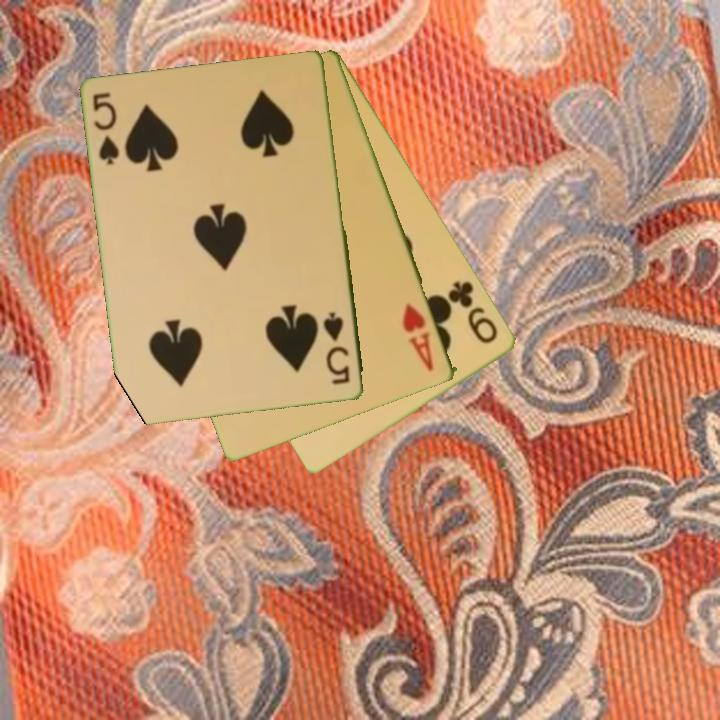5s: (89, 89, 123, 169), (320, 308, 353, 388)
9c: (444, 277, 502, 347)
Ah: (399, 300, 437, 374)
